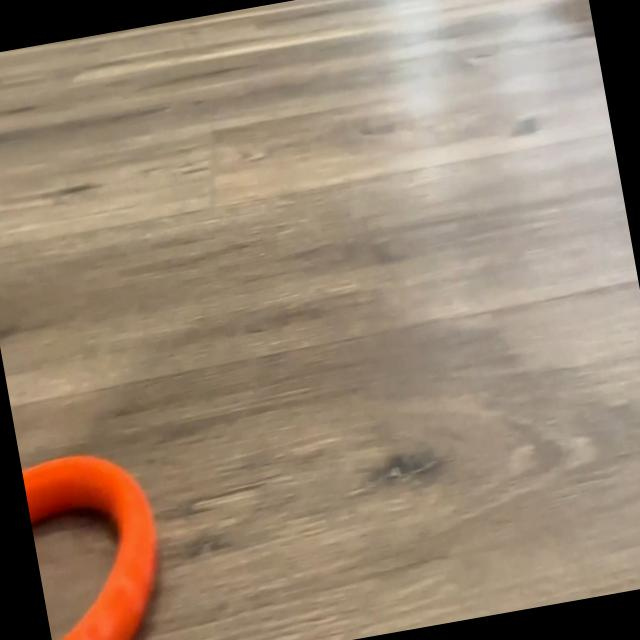note: (22, 442, 182, 640)
